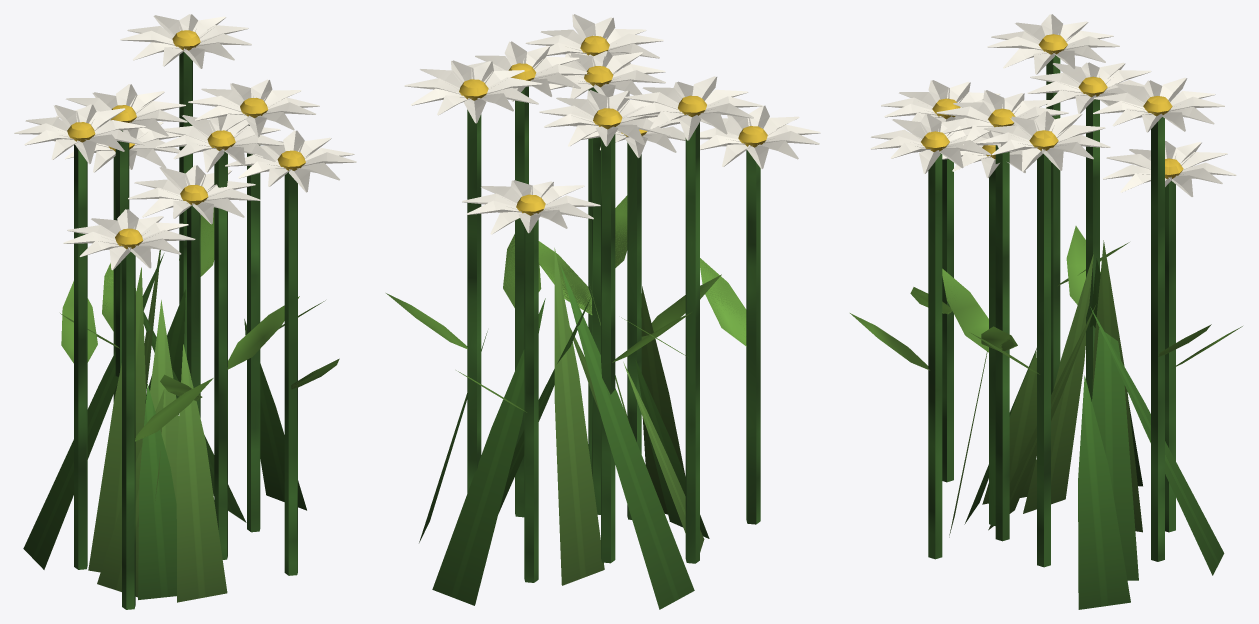
File: SM_Flowers_Daisy.gltf
3 renders of one model, left to right at view 1: azimuth 30°, elevation 25°; view 2: azimuth 150°, elevation 25°; view 3: azimuth 270°, elevation 25°, orthographic. The views are drawn at different scales.
Visible parts, largest first — view 1: SM_Flowers_Daisy; view 2: SM_Flowers_Daisy; view 3: SM_Flowers_Daisy.
Part boxes in pixels (box(x1,y1,x2,y2)): SM_Flowers_Daisy: box(14, 14, 356, 609); SM_Flowers_Daisy: box(386, 14, 820, 609); SM_Flowers_Daisy: box(850, 14, 1242, 609).
Bounding box in the file's own units: 0.2833 × 0.4239 × 0.3218.
Materials: 1 (1 with a texture image).
